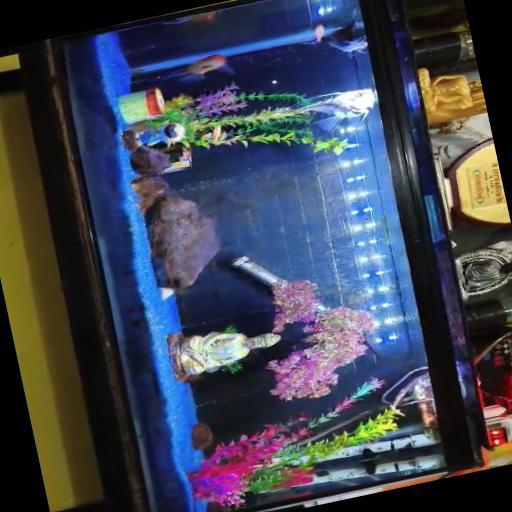Fish: (290, 89, 374, 132), (160, 54, 231, 82), (327, 36, 367, 54), (160, 12, 215, 25), (299, 24, 324, 45), (204, 126, 225, 145)
